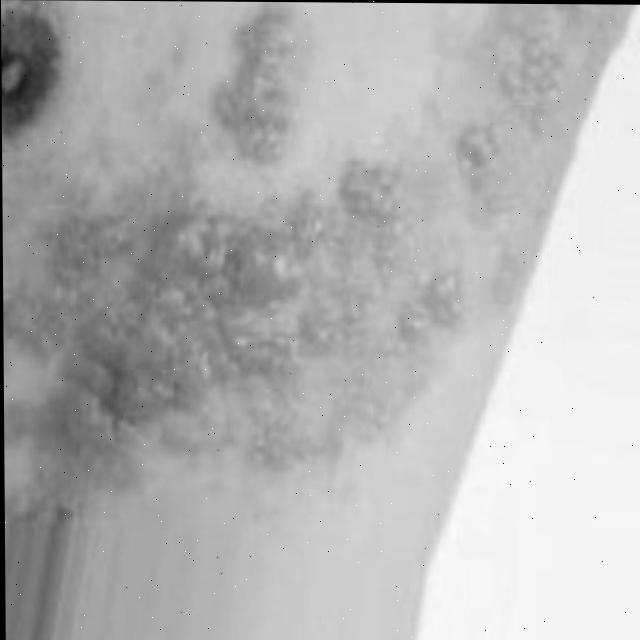Shingles: (8, 1, 570, 499)
